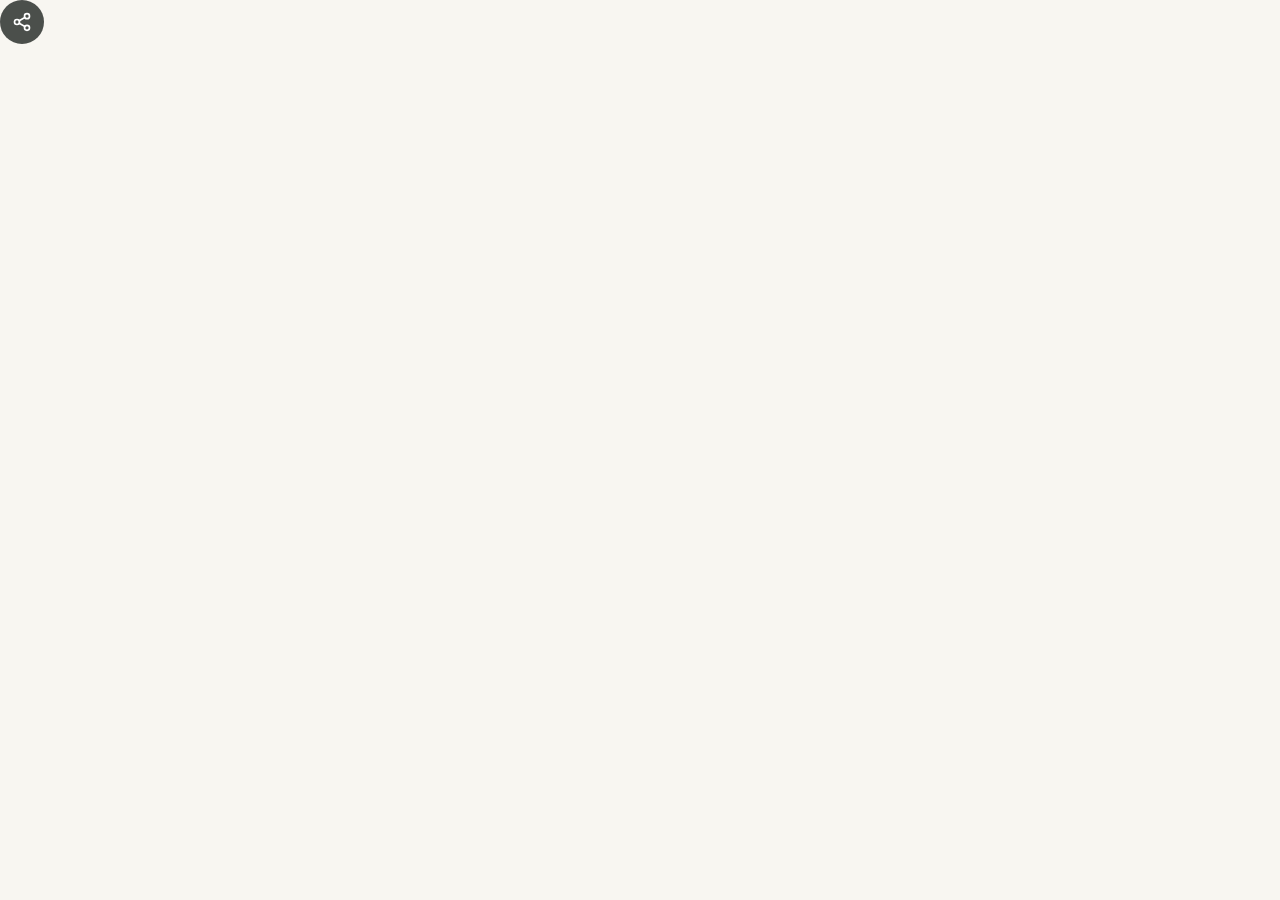
Test: cover itinerary action › offers PDF and copy alternatives when sharing fails
Step 1. Click the button named "Share itinerary" → coordinates (22, 22), box 0,0 -> 44,44
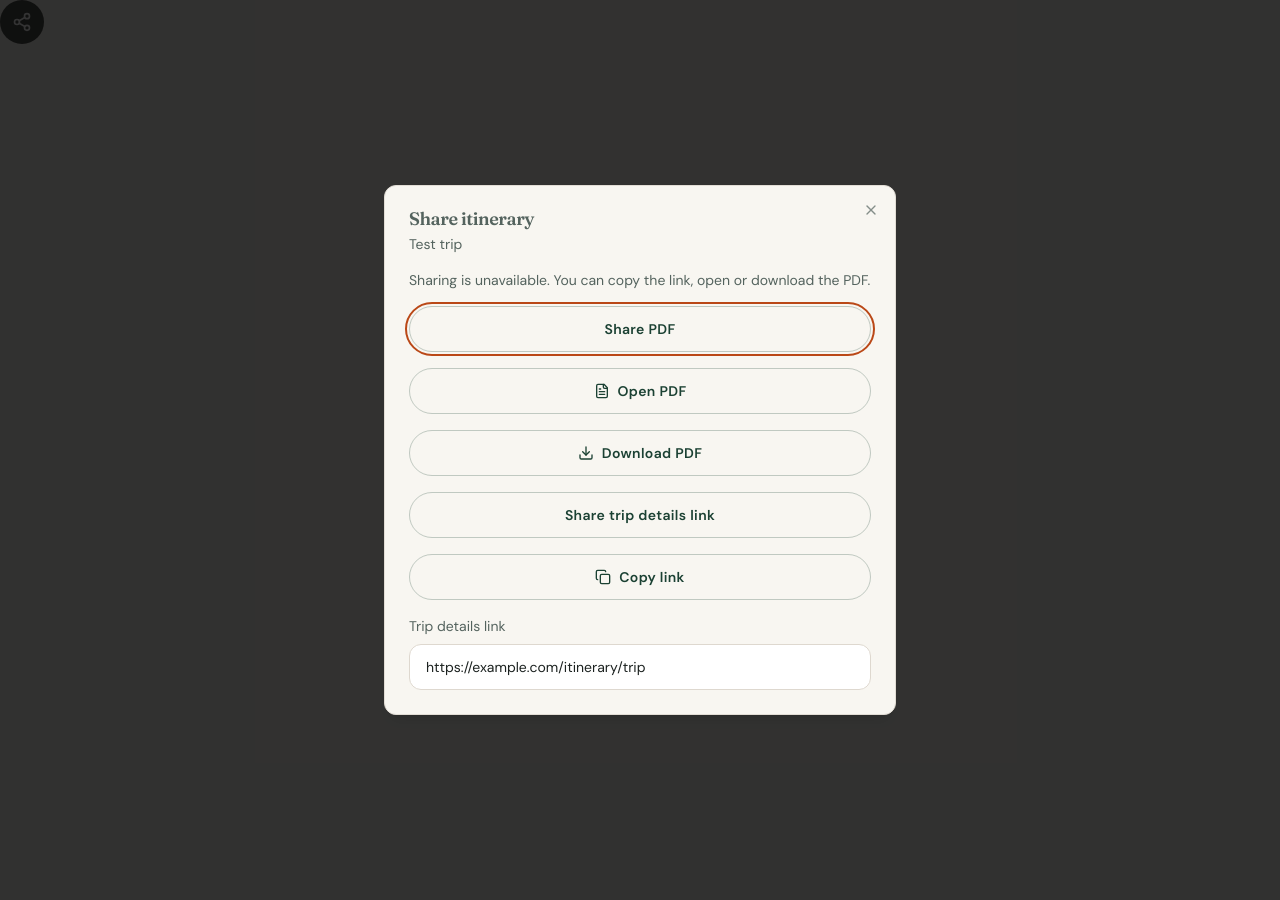
Now the dialog is shown, box 384,185 -> 896,715
Now the button "Download PDF" is shown, box 409,430 -> 871,476
